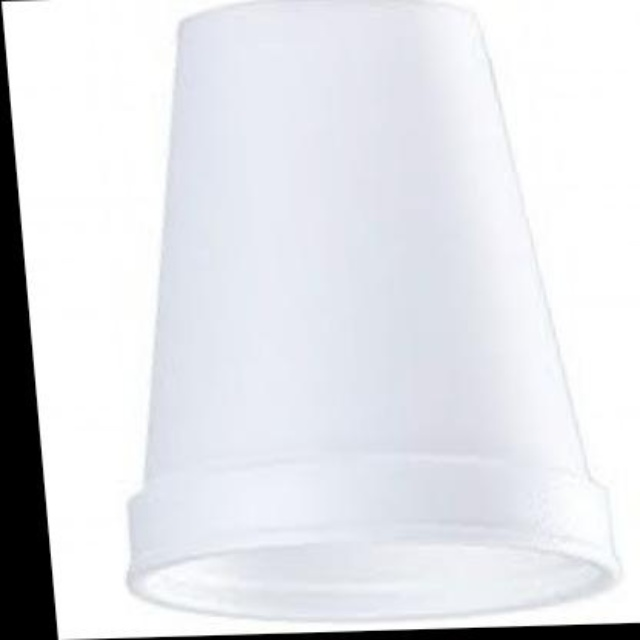trash: (128, 0, 618, 620)
